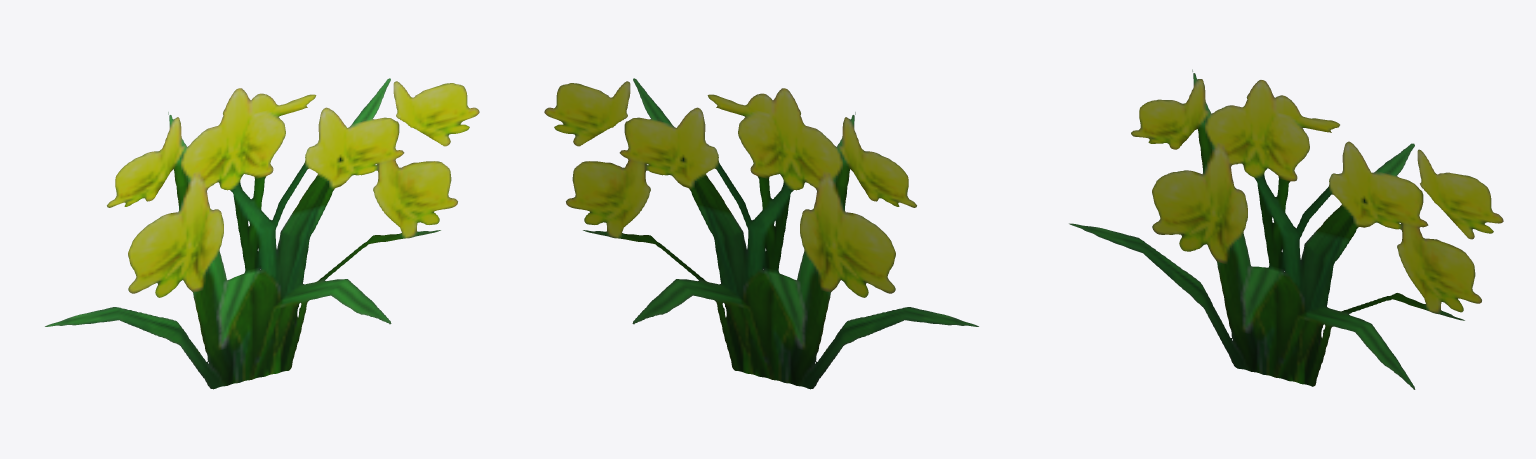
3 views of the same model, side by side, from view 1: azimuth 30°, elevation 25°; view 2: azimuth 150°, elevation 25°; view 3: azimuth 330°, elevation 25° (orthographic).
Visible parts, largest first — view 1: 草丛006; view 2: 草丛006; view 3: 草丛006.
Part boxes in pixels (x1,y1,x2,y2): 草丛006: [45, 78, 479, 389]; 草丛006: [544, 78, 978, 389]; 草丛006: [1069, 69, 1503, 389].
Bounding box in the file's own units: 103 × 63.56 × 1.25e-05.
1 material, 1 textured.
